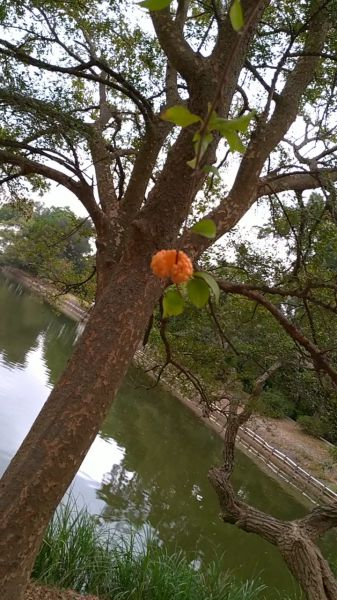eggs: (149, 246, 192, 284)
